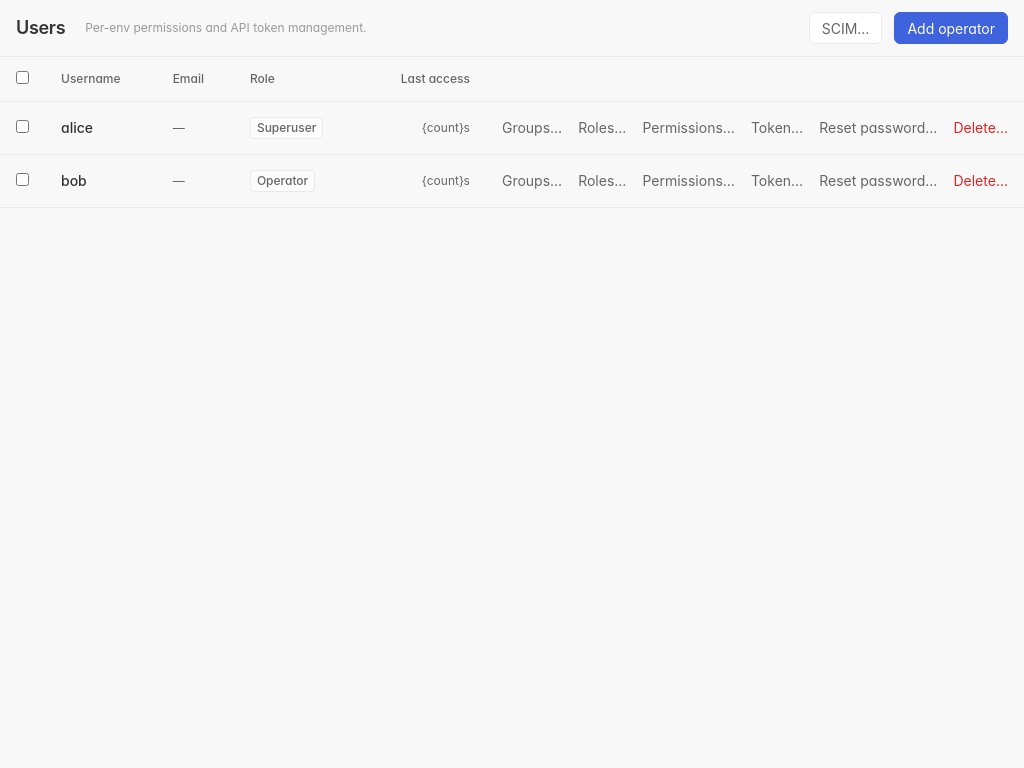
it: UsersPage › permissions: loads tiers and disables them when Admin is checked
The image size is (1024, 768).
Step 1. Click the button "Permissions…" in the row of "bob" → (689, 181), box [634,167,743,195]
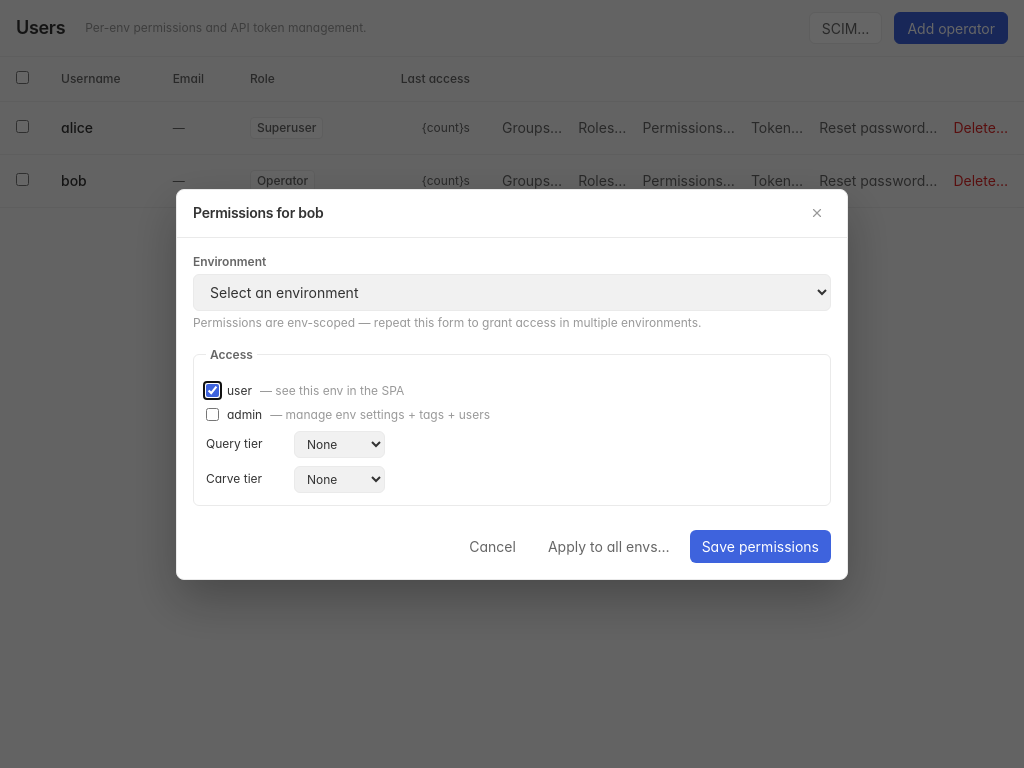
Step 2. Select "prod" in the dropdown labelled "Environment" → (512, 292), box [193,274,831,310]
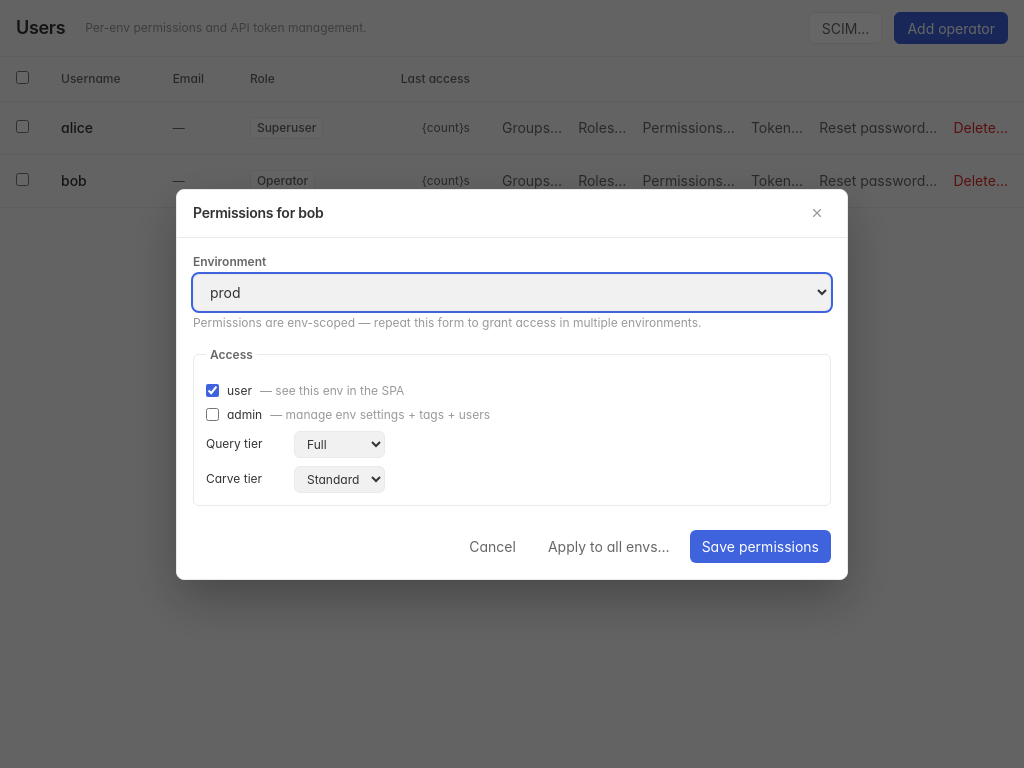
Now the dropdown labelled "Query tier" shows "Full", box [294,430,385,458]
Now the dropdown labelled "Carve tier" shows "Standard", box [294,466,385,492]
Step 3. Click the checkbox labelled "admin — manage env settings + tags + users" → (212, 414), box [206,408,219,421]
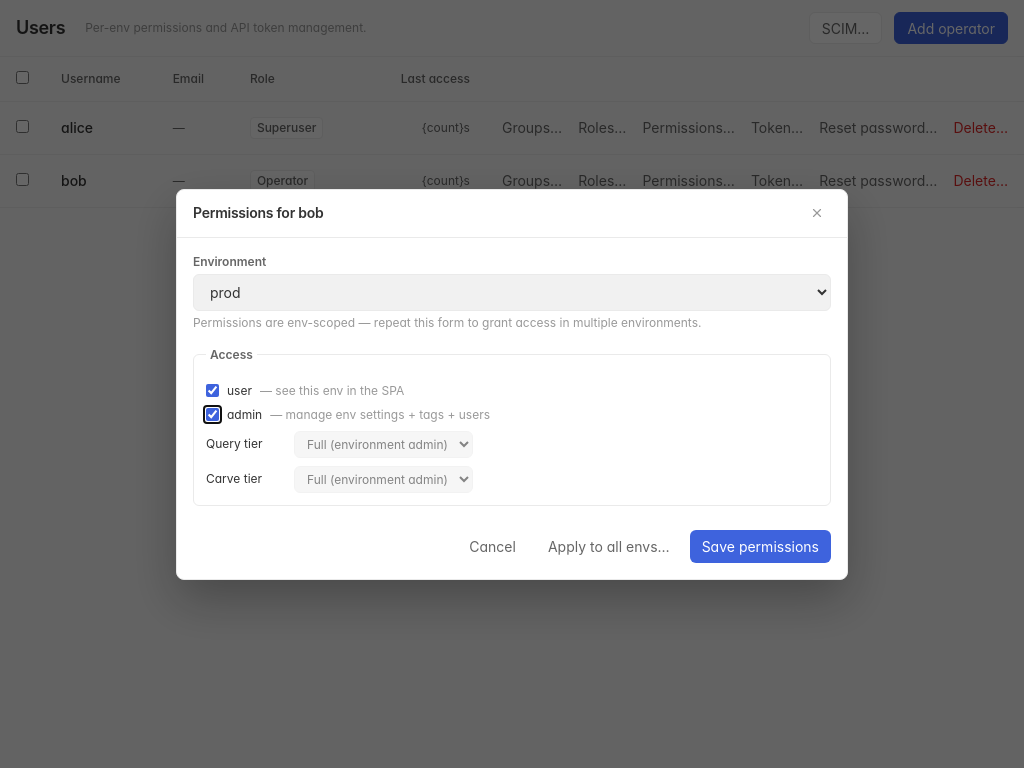
Now the dropdown labelled "Query tier" is disabled, box [294,430,473,458]
Now the dropdown labelled "Carve tier" is disabled, box [294,466,473,492]
Now the dropdown labelled "Query tier" shows "Full (environment admin)", box [294,430,473,458]
